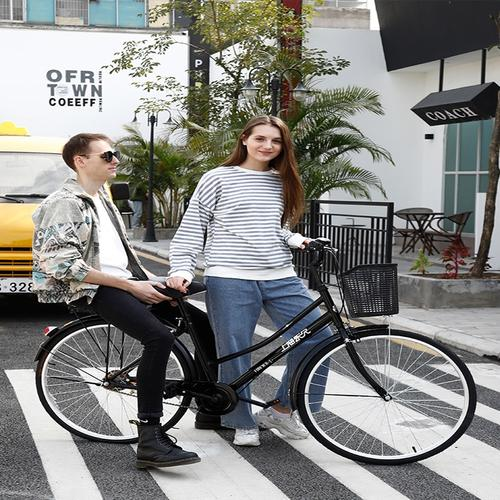单车: (30, 190, 494, 471)
